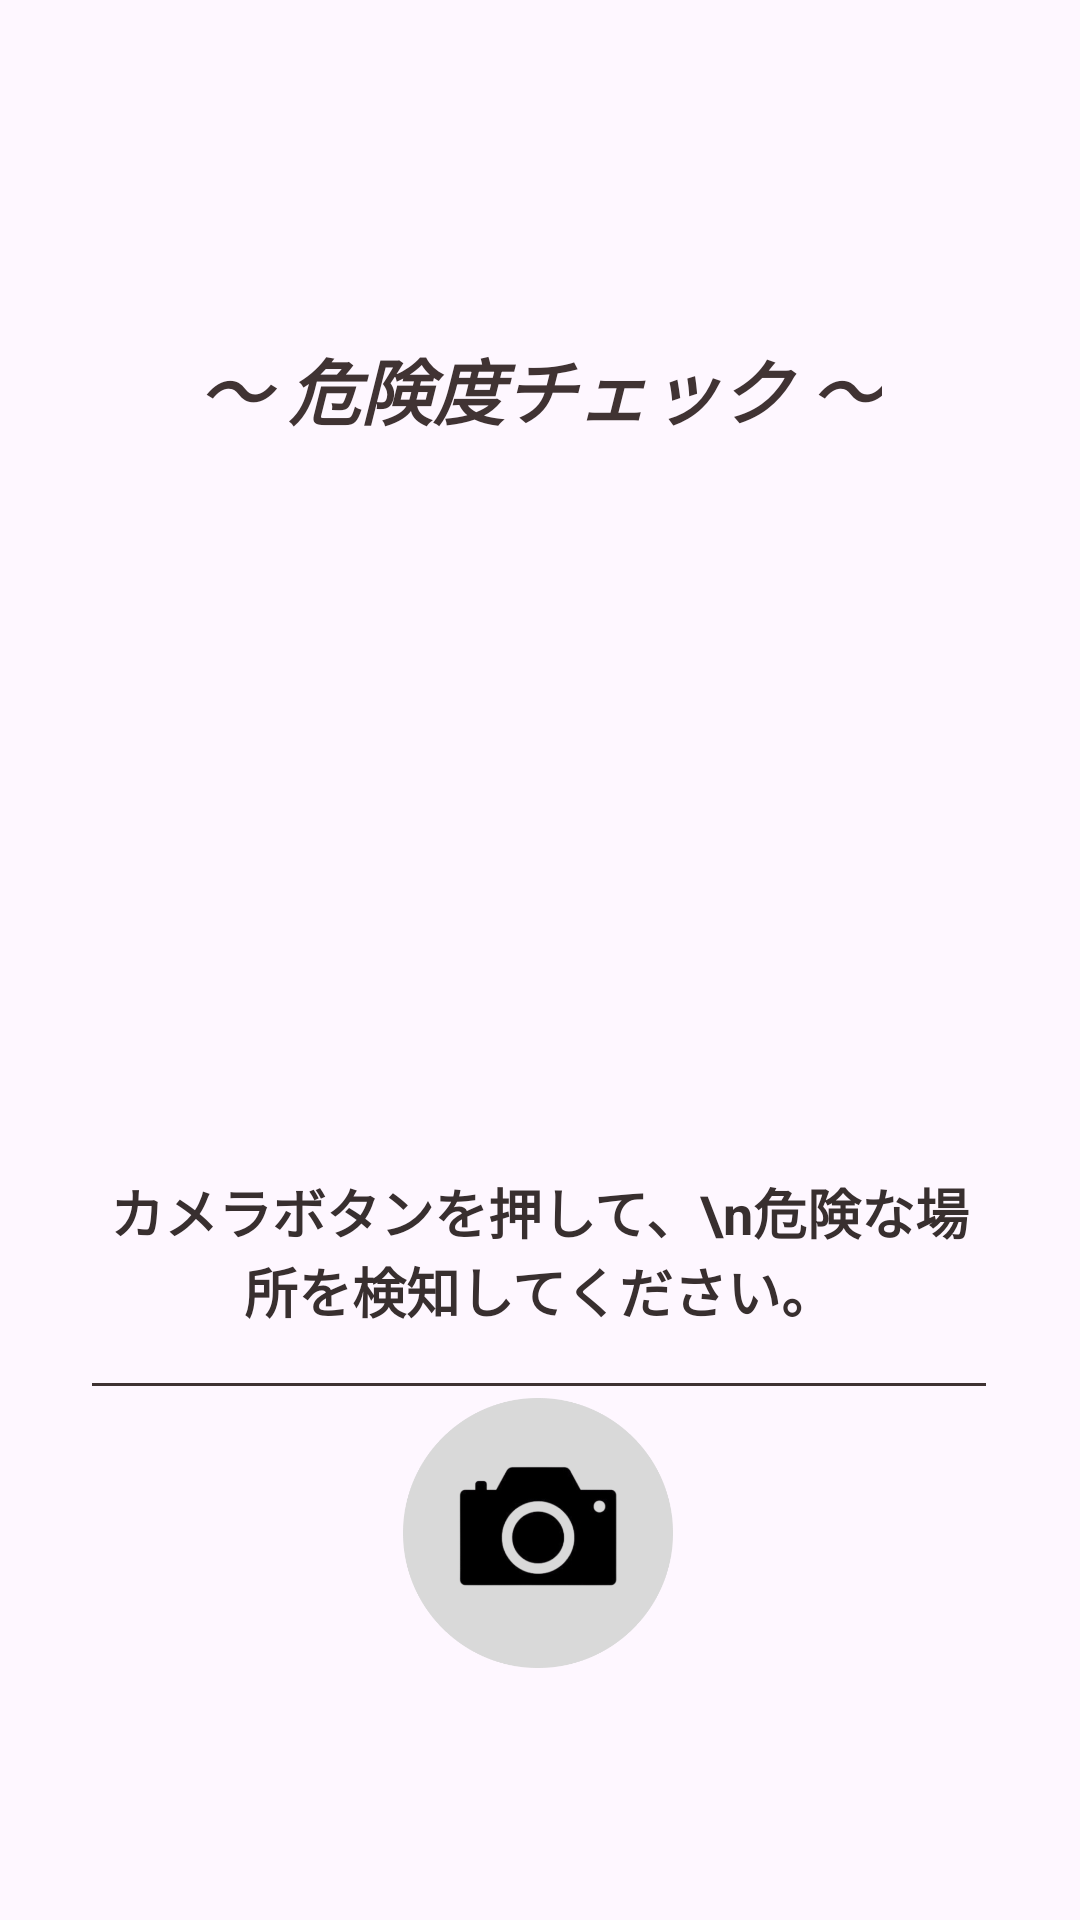

Icon bounding boxes for this 1080×1920 phone screenshot, format (x1, y1, x2, y2):
camera: (403, 1398, 673, 1668)
